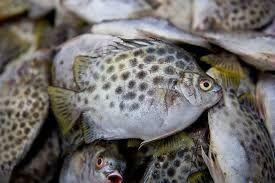Scat Fish: (50, 35, 227, 140)
